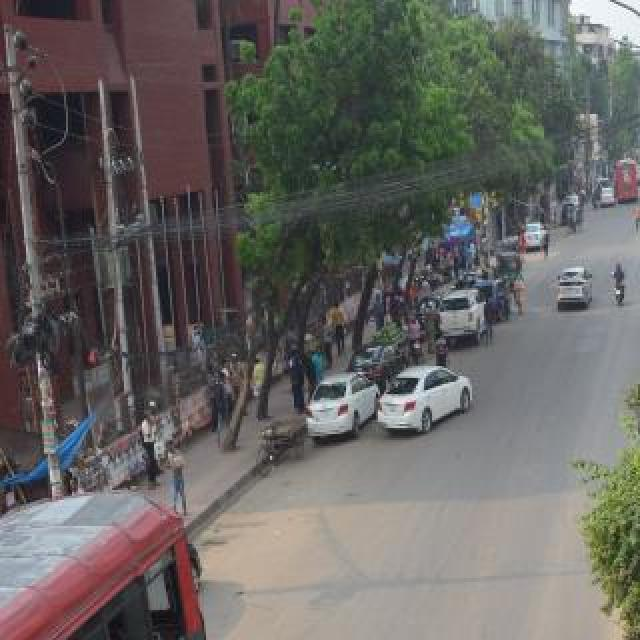bus: (4, 338, 264, 640), (604, 142, 640, 212)
car: (370, 320, 478, 440), (296, 343, 374, 465), (341, 300, 411, 380), (429, 275, 497, 351), (553, 249, 597, 327), (512, 201, 552, 269), (406, 286, 444, 332), (597, 180, 621, 222), (562, 188, 584, 214), (555, 203, 579, 225), (638, 168, 640, 200)
motorbike: (397, 311, 427, 359), (609, 260, 629, 304), (585, 185, 601, 213)
